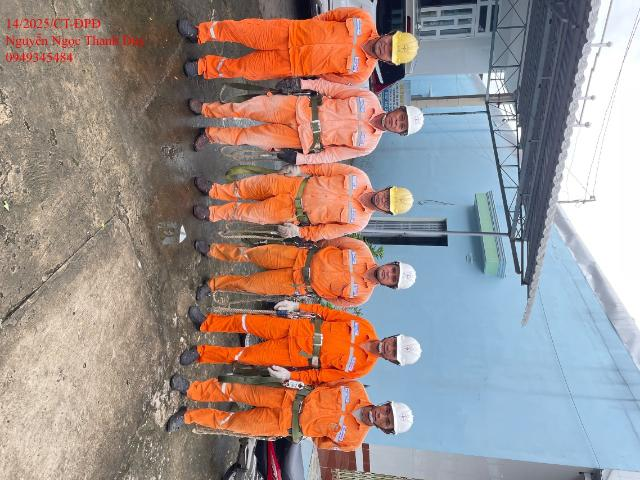gloves: (274, 143, 301, 170), (278, 74, 309, 96), (270, 362, 291, 387), (275, 300, 301, 319), (281, 221, 301, 244)
harness: (286, 382, 315, 446), (303, 314, 331, 369), (304, 82, 324, 154), (297, 241, 321, 293), (296, 174, 315, 229)
helmet: (392, 21, 422, 72), (386, 396, 418, 436), (389, 172, 416, 219), (399, 92, 427, 137), (389, 259, 428, 291), (395, 328, 424, 369)
shoes: (174, 16, 207, 48), (166, 402, 195, 432), (191, 198, 221, 224), (182, 56, 211, 82), (178, 342, 208, 367), (171, 373, 199, 399), (196, 271, 219, 302), (195, 229, 216, 260), (192, 167, 213, 196), (190, 306, 211, 335), (187, 89, 206, 121), (194, 126, 216, 152)
